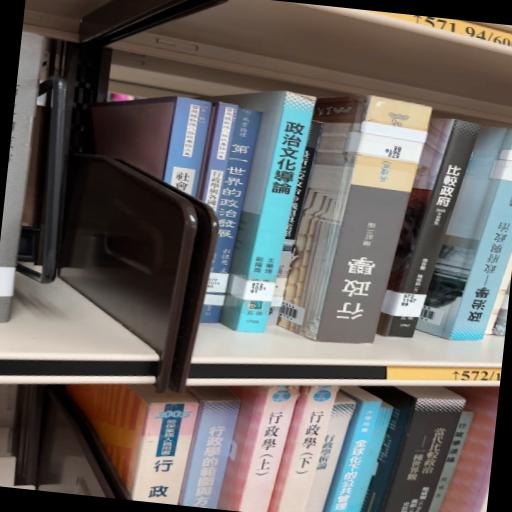reverse: (279, 96, 433, 344), (418, 129, 512, 341)
